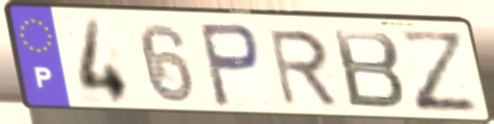4: (76, 17, 133, 108)
6: (137, 22, 198, 107)
B: (330, 27, 409, 113)
P: (195, 21, 264, 111)
R: (265, 28, 342, 109)
Z: (394, 27, 483, 115)
